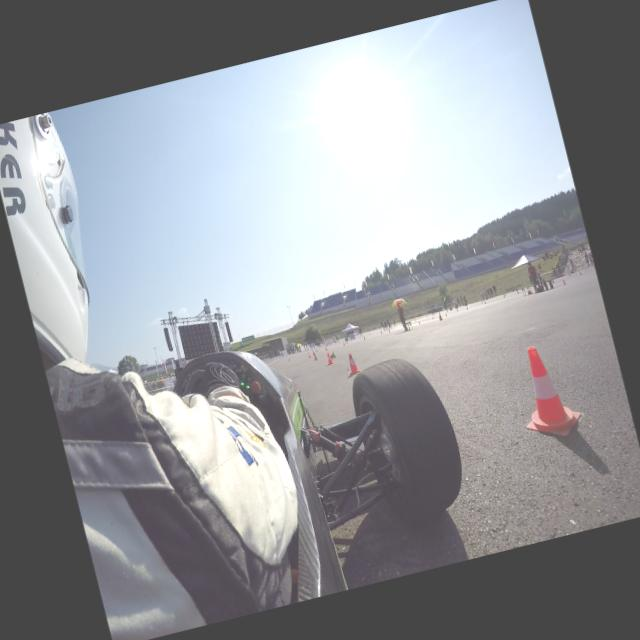orange_cone: (514, 339, 580, 434), (344, 352, 360, 374), (325, 352, 333, 364), (314, 352, 318, 360), (324, 346, 328, 350), (308, 351, 310, 357), (312, 348, 314, 354), (288, 356, 290, 361), (315, 348, 317, 352)
yellow_cone: (328, 350, 337, 358)
